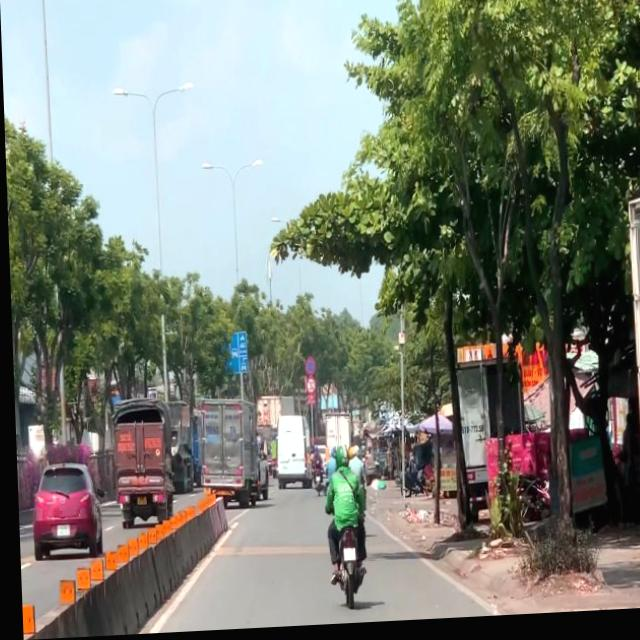Cam dung xe va do xe: (301, 359, 313, 380)
